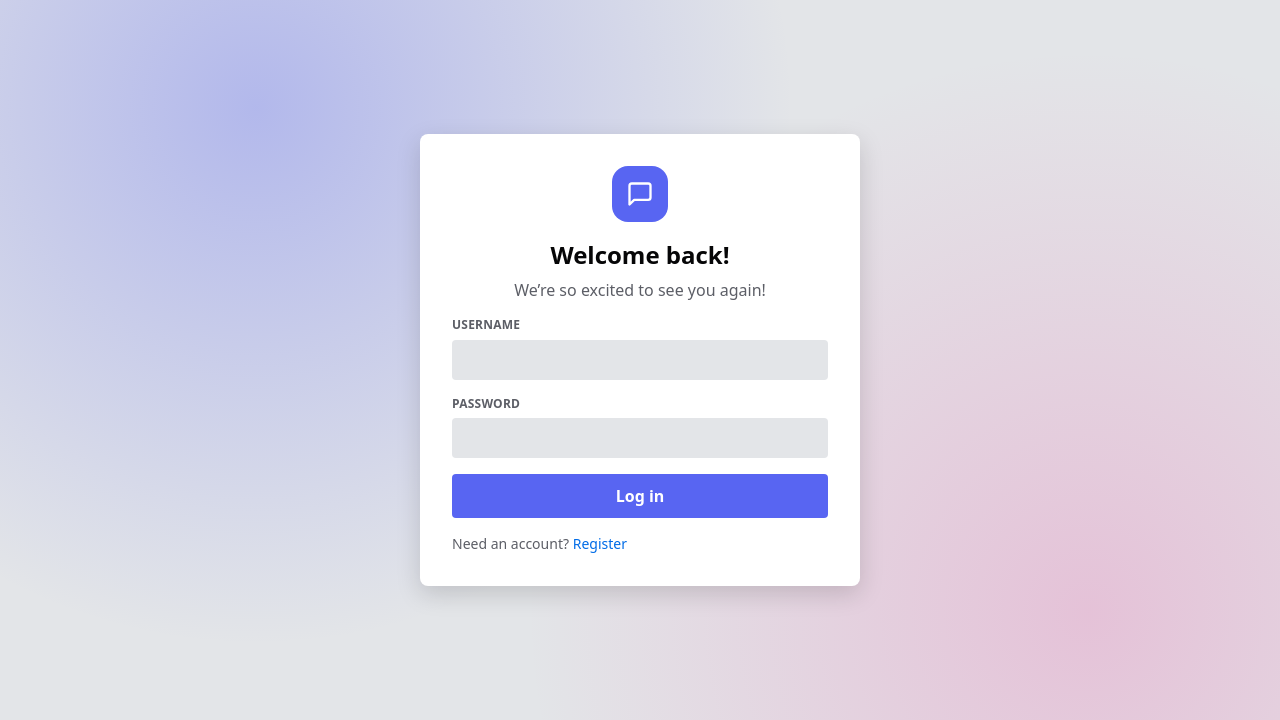
Test case: registration uses the server settings from /api/meta › shows the runtime member cap and hides the invite code when none is required
What coordinates should you click on to do the following:
click the button "Register"
I would click on:
 (600, 544)
Its box is [573, 534, 627, 554].
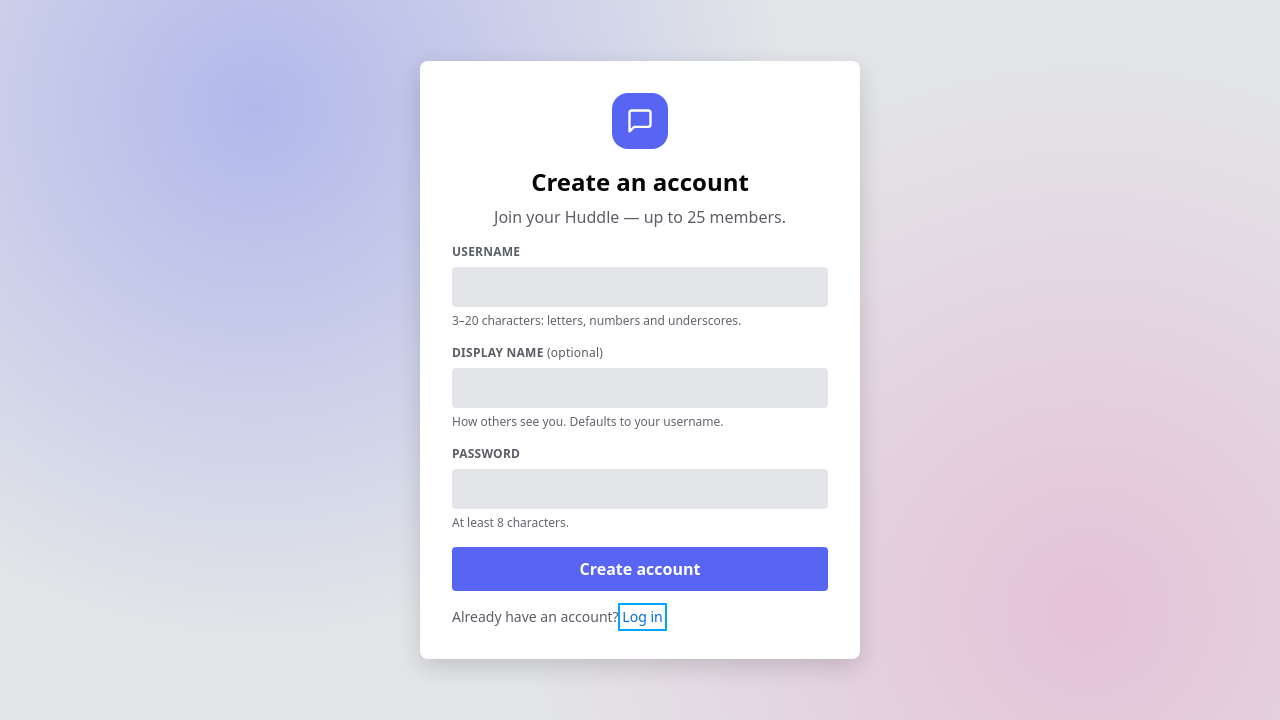
Expected: the text "Join your Huddle — up to 25 members." is shown, [494, 206, 786, 228]
